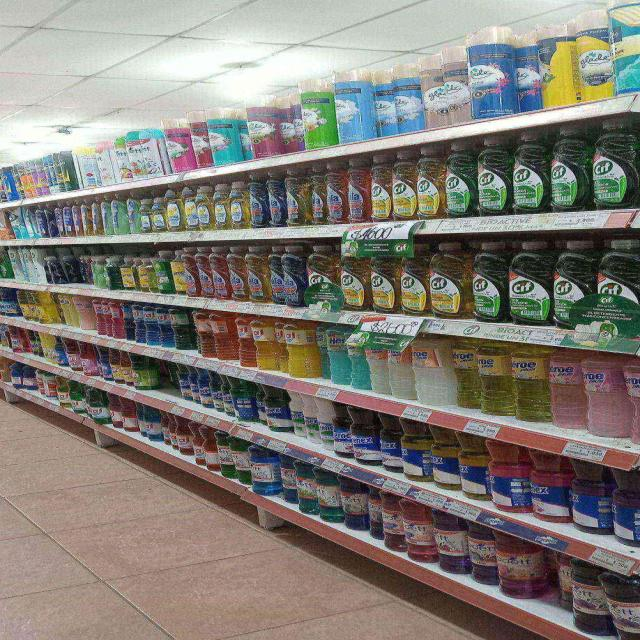ala_conc_amarillo: (246, 245, 269, 303), (288, 168, 309, 226), (309, 165, 325, 225)
ala_conc_azul: (249, 172, 268, 228), (268, 170, 286, 227)
ala_conc_rojo: (346, 156, 369, 224), (326, 161, 346, 225), (177, 248, 197, 296), (212, 247, 230, 300), (227, 246, 244, 302), (198, 246, 216, 298)
cif_conc_bot_amarilla: (429, 241, 468, 319), (398, 243, 427, 316), (416, 145, 444, 219), (369, 246, 396, 313), (393, 150, 416, 221), (371, 153, 392, 222)
cif_conc_botella_verde: (594, 238, 639, 346), (590, 119, 634, 210), (551, 240, 592, 330), (508, 240, 550, 326), (547, 127, 587, 212), (509, 130, 546, 214), (470, 241, 505, 323), (474, 134, 508, 216), (445, 140, 473, 218)
heroe: (549, 350, 584, 429), (625, 356, 640, 441)
magistral_con_amarillo: (182, 186, 202, 232), (165, 190, 182, 232)
